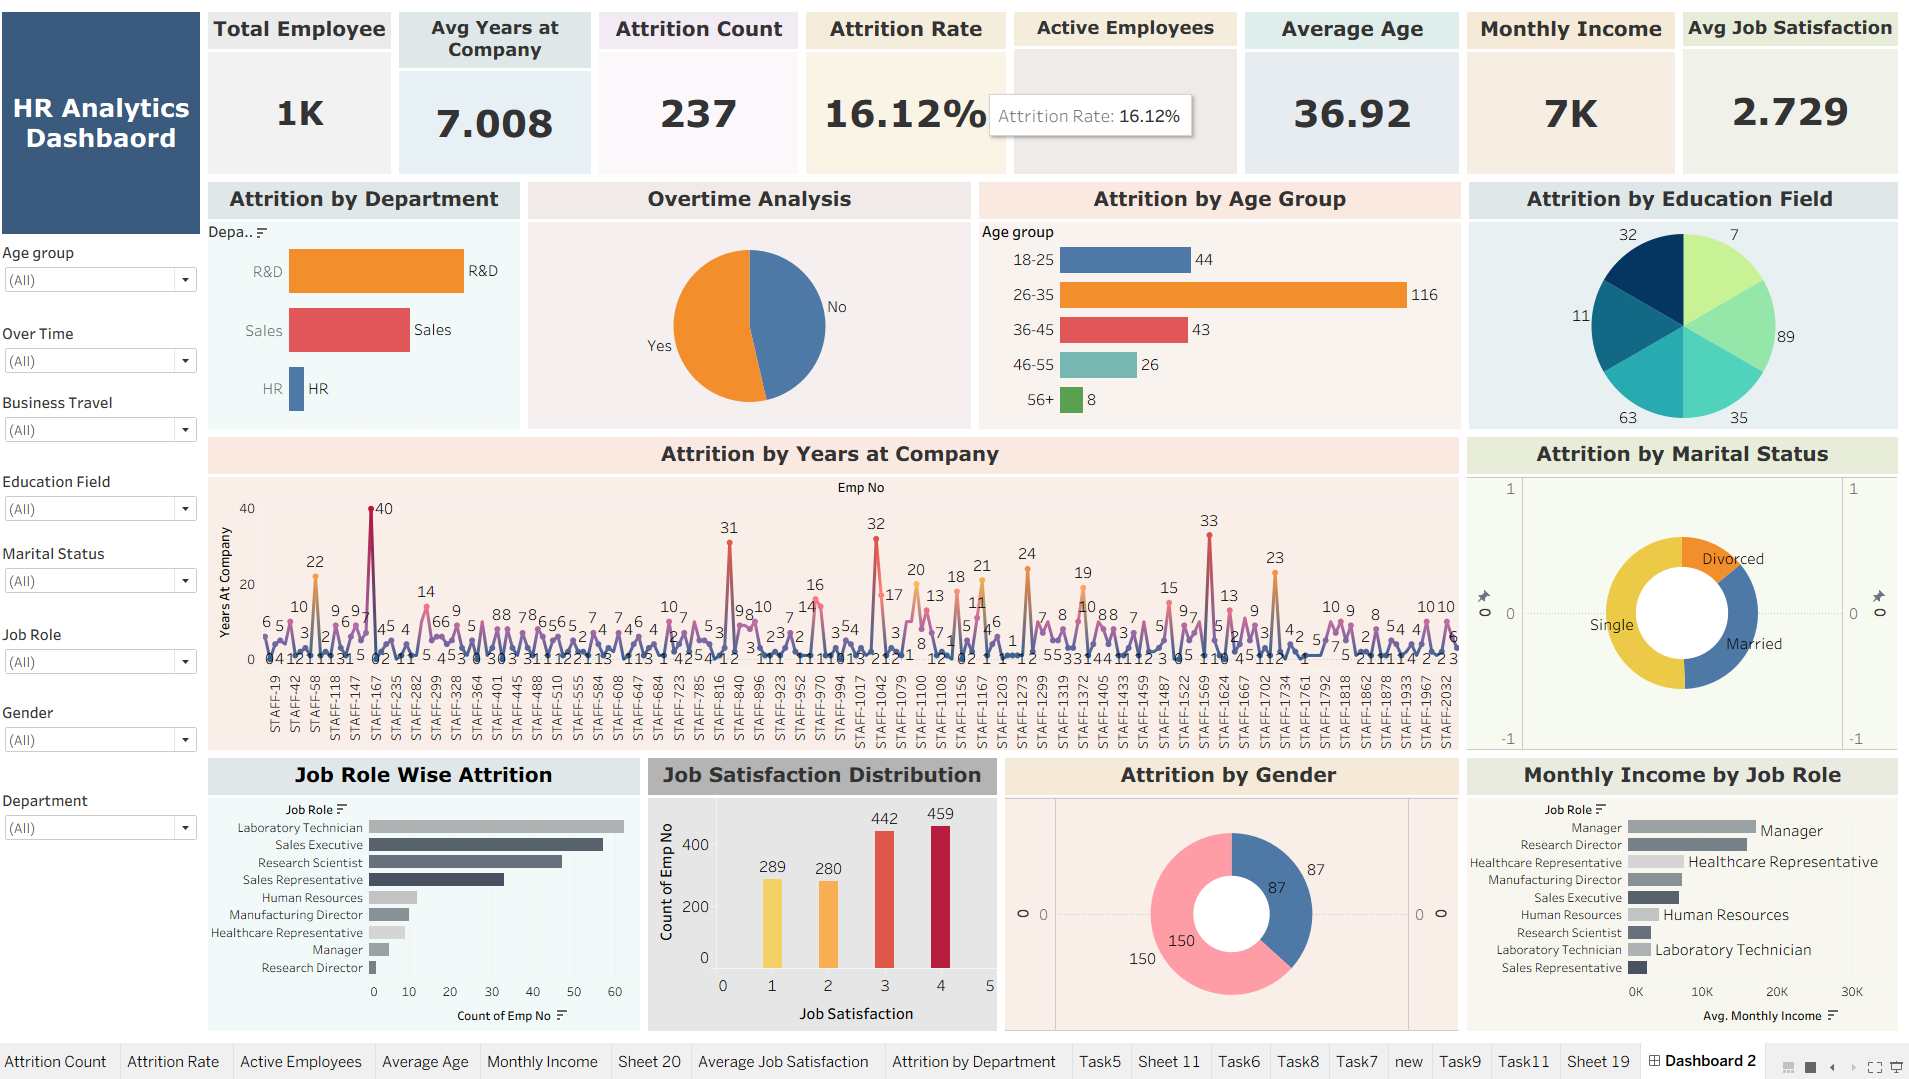

What the dashboard file says about the page in this screenshot:
{"tool":"tableau","page":{"name":"Dashboard 2","canvas":[1000,1000],"units":"permille","ordinal":0},"visuals":[{"type":"text","box":[4.8,9.4,107.2,219.6]},{"type":"worksheet","title":"Total Employee","mark":"Automatic","box":[112.1,9.4,99.2,162]},{"type":"worksheet","title":"Sheet 20","mark":"Automatic","box":[211.3,9.4,103.9,162]},{"type":"worksheet","title":"Attrition Count","mark":"Automatic","box":[315.2,9.4,108,162]},{"type":"worksheet","title":"Attrition Rate","mark":"Automatic","box":[423.2,9.4,108.1,162]},{"type":"worksheet","title":"Active Employees","mark":"Automatic","box":[531.3,9.4,119.9,162]},{"type":"worksheet","title":"Average Age","mark":"Automatic","box":[651.2,9.4,115.8,162]},{"type":"worksheet","title":"Monthly Income","mark":"Automatic","box":[767,9.4,112.3,162]},{"type":"worksheet","title":"Average Job Satisfaction","mark":"Automatic","box":[879.2,9.4,115.9,162]},{"type":"worksheet","title":"Attrition by Department","mark":"Bar","rows":["Department"],"cols":["emp no"],"box":[112.1,171.4,166.3,244.4]},{"type":"worksheet","title":"Task9","mark":"Pie","box":[278.4,171.4,234.5,244.4]},{"type":"worksheet","title":"Sheet 11","mark":"Bar","cols":["emp no"],"box":[512.9,171.4,255.1,244.4]},{"type":"worksheet","title":"Task5","mark":"Pie","box":[768,171.4,227.2,244.4]},{"type":"filter","title":"Sheet 19","param":"[federated.11pvdls0z68jzh1f4yd850y5obvo].[Age (group)]","box":[4.8,229,107.2,95.2]},{"type":"filter","title":"Sheet 19","param":"[federated.11pvdls0z68jzh1f4yd850y5obvo].[none:Over Time:nk]","box":[4.8,324.2,107.2,81.1]},{"type":"filter","title":"Sheet 19","param":"[federated.11pvdls0z68jzh1f4yd850y5obvo].[none:Business Travel:nk]","box":[4.8,405.2,107.2,92.8]},{"type":"worksheet","title":"new","mark":"Line","rows":["Years At Company"],"cols":["emp no"],"box":[112.1,415.8,654.9,306.7]},{"type":"worksheet","title":"Task8","mark":"Pie","rows":["Calculation_1526416624390149","Calculation_1526416624402439"],"box":[767,415.8,228.2,306.7]},{"type":"filter","title":"Sheet 19","param":"[federated.11pvdls0z68jzh1f4yd850y5obvo].[none:Education Field:nk]","box":[4.8,498.1,107.2,84.6]},{"type":"filter","title":"Sheet 19","param":"[federated.11pvdls0z68jzh1f4yd850y5obvo].[none:Marital Status:nk]","box":[4.8,582.7,107.2,95.2]},{"type":"filter","title":"Sheet 19","param":"[federated.11pvdls0z68jzh1f4yd850y5obvo].[none:Job Role:nk]","box":[4.8,677.9,107.2,91.7]},{"type":"worksheet","title":"Task6","mark":"Bar","rows":["Job Role"],"cols":["emp no"],"box":[112.1,722.5,228.7,268.1]},{"type":"worksheet","title":"Task11","mark":"Bar","rows":["emp no"],"cols":["Job Satisfaction"],"box":[340.8,722.5,215.5,268.1]},{"type":"worksheet","title":"Sheet 19","mark":"Pie","rows":["Calculation_12585304991948801","Calculation_12585304991965187"],"box":[556.2,722.5,210.8,268.1]},{"type":"worksheet","title":"Task7","mark":"Bar","rows":["Job Role"],"cols":["Monthly Income"],"box":[767,722.5,228.2,268.1]},{"type":"filter","title":"Sheet 19","param":"[federated.11pvdls0z68jzh1f4yd850y5obvo].[none:Gender:nk]","box":[4.8,769.5,107.2,103.4]},{"type":"filter","title":"Sheet 19","param":"[federated.11pvdls0z68jzh1f4yd850y5obvo].[none:Department:nk]","box":[4.8,872.9,107.2,117.7]}]}

Visuals, with their boxes on the dashboard's canvas, which has no fixed pixel size, in thousandths of its width and height (x1, y1, x2, y2). These are canvas units, not pixel positions in the 1909x1079 screenshot, which may show the page scaled, cropped or inside an application window:
text: 5,9,112,229
"Total Employee" worksheet: 112,9,211,171
"Sheet 20" worksheet: 211,9,315,171
"Attrition Count" worksheet: 315,9,423,171
"Attrition Rate" worksheet: 423,9,531,171
"Active Employees" worksheet: 531,9,651,171
"Average Age" worksheet: 651,9,767,171
"Monthly Income" worksheet: 767,9,879,171
"Average Job Satisfaction" worksheet: 879,9,995,171
"Attrition by Department" worksheet (Bar marks): 112,171,278,416
"Task9" worksheet (Pie marks): 278,171,513,416
"Sheet 11" worksheet (Bar marks): 513,171,768,416
"Task5" worksheet (Pie marks): 768,171,995,416
"Sheet 19" filter: 5,229,112,324
"Sheet 19" filter: 5,324,112,405
"Sheet 19" filter: 5,405,112,498
"new" worksheet (Line marks): 112,416,767,722
"Task8" worksheet (Pie marks): 767,416,995,722
"Sheet 19" filter: 5,498,112,583
"Sheet 19" filter: 5,583,112,678
"Sheet 19" filter: 5,678,112,770
"Task6" worksheet (Bar marks): 112,722,341,991
"Task11" worksheet (Bar marks): 341,722,556,991
"Sheet 19" worksheet (Pie marks): 556,722,767,991
"Task7" worksheet (Bar marks): 767,722,995,991
"Sheet 19" filter: 5,770,112,873
"Sheet 19" filter: 5,873,112,991
